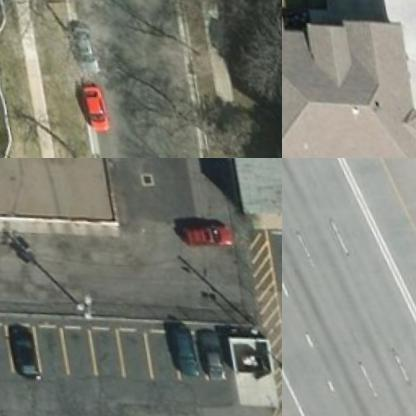car: (171, 207, 233, 247), (0, 322, 36, 380), (61, 18, 98, 72), (188, 320, 220, 376), (160, 316, 190, 374), (72, 78, 105, 128)
